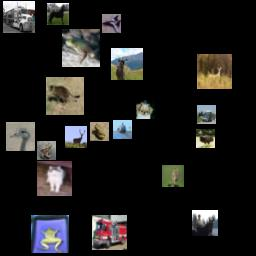airplane: (102, 14, 121, 33)
automobile: (197, 105, 216, 124)
bird: (6, 122, 35, 151), (162, 165, 184, 187), (196, 129, 215, 148)
cat: (46, 77, 84, 115), (37, 161, 72, 196)
deer: (197, 54, 232, 89), (111, 48, 143, 80), (65, 126, 87, 148)
dog: (136, 100, 155, 119)
frog: (31, 215, 69, 253), (62, 29, 100, 67), (37, 141, 56, 160), (90, 122, 109, 141)
ship: (113, 120, 132, 139)
truck: (92, 215, 127, 250), (3, 1, 35, 33)
